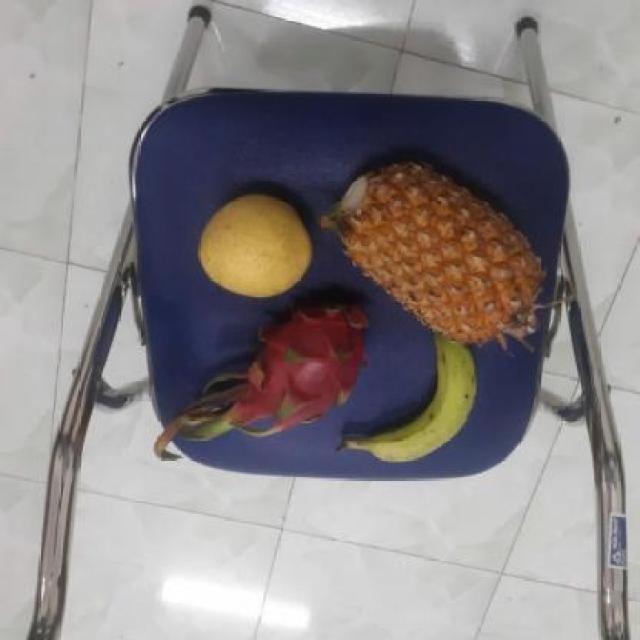banana: (350, 334, 484, 466)
dragon fruit: (230, 295, 375, 433)
pear: (195, 189, 320, 294)
pineapple: (326, 162, 546, 348)
